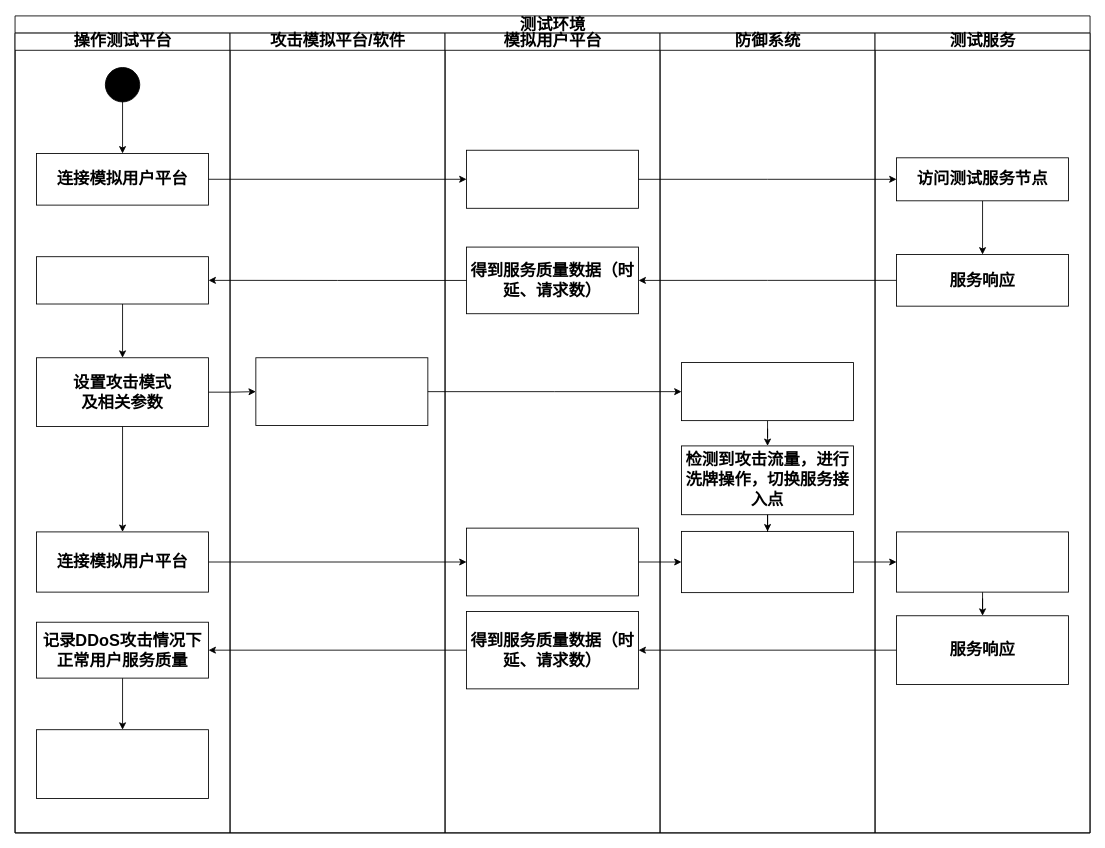
Some shapes in this 1105 by 848 pixel diagram are drawn without their labels. Here are the shapes that lost their labels. From the top down, the centre of each, then its label:
At pixel 552 178: "使用wrk工具，测试正常用户服务质量".
At pixel 122 280: "记录无攻击情况下 正常用户服务质量".
At pixel 341 391: "生成攻击流量，对原型系统保护的真实服务发起攻击".
At pixel 767 391: "尝试通过防御系统对测试服务发起DDoS攻击".
At pixel 552 561: "使用wrk工具，测试经过防御系统的正常用户服务质量".
At pixel 767 562: "攻击者与普通用户分配至不同服务接入点上".
At pixel 982 561: "普通用户通过防御系统访问测试服务".
At pixel 122 764: "测算正常用户 网络服务质量损耗".
